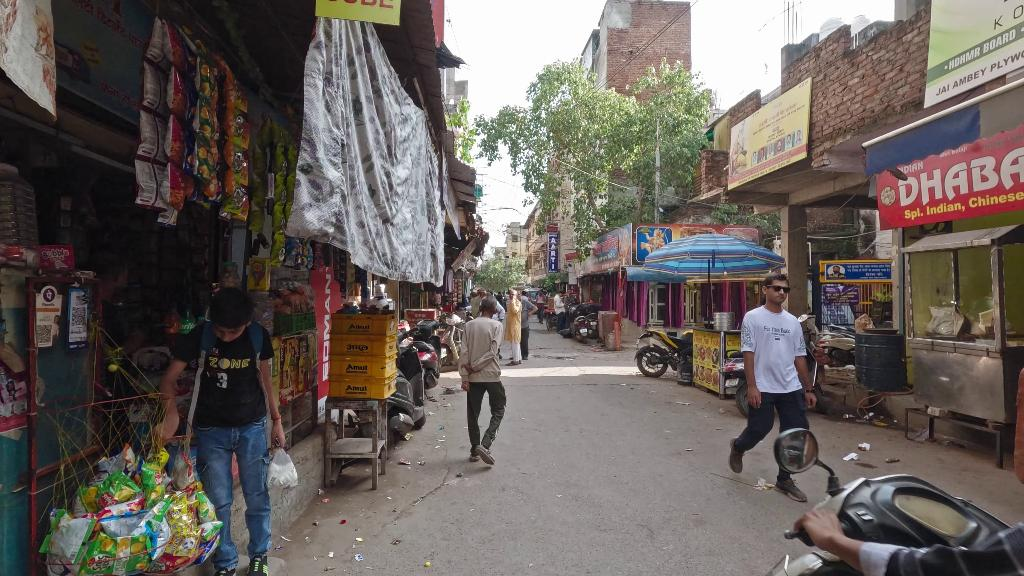garbage: (845, 437, 874, 463)
